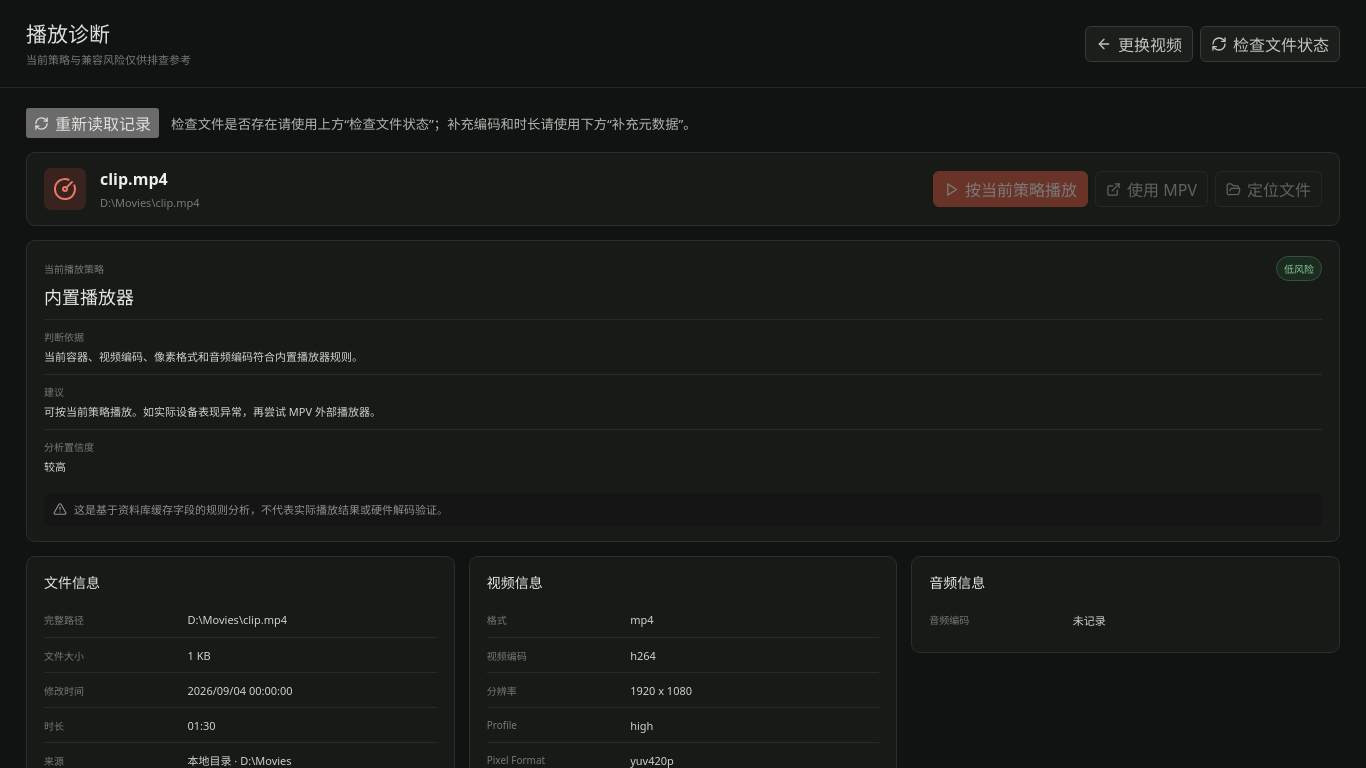
Test: PlaybackDiagnosticPage › checks the actual file state and refreshes the selected database record
The width and height of the screenshot is (1366, 768).
Click the button "检查文件状态". click: (1270, 44)
box: [1200,26,1340,62]
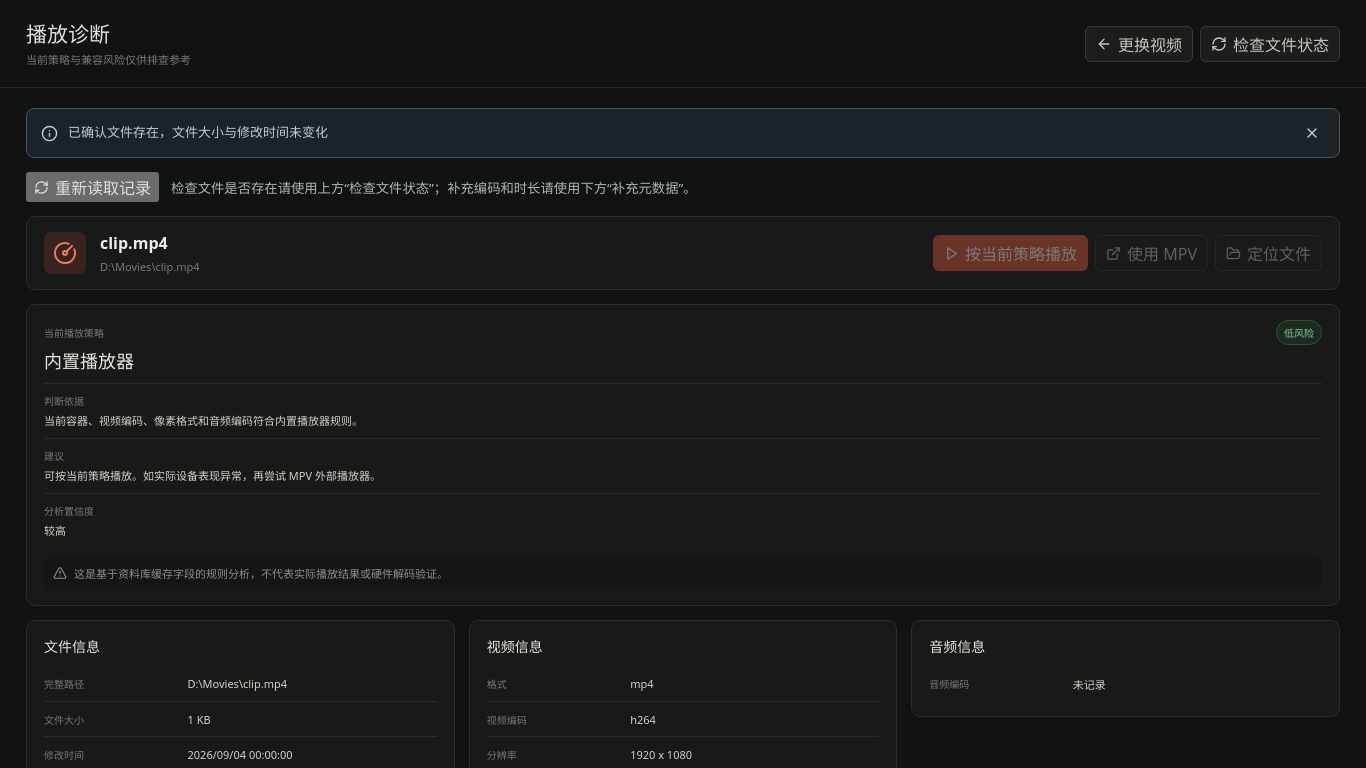
Now the text "已确认文件存在，文件大小与修改时间未变化" is shown, box [68,123,328,141]
